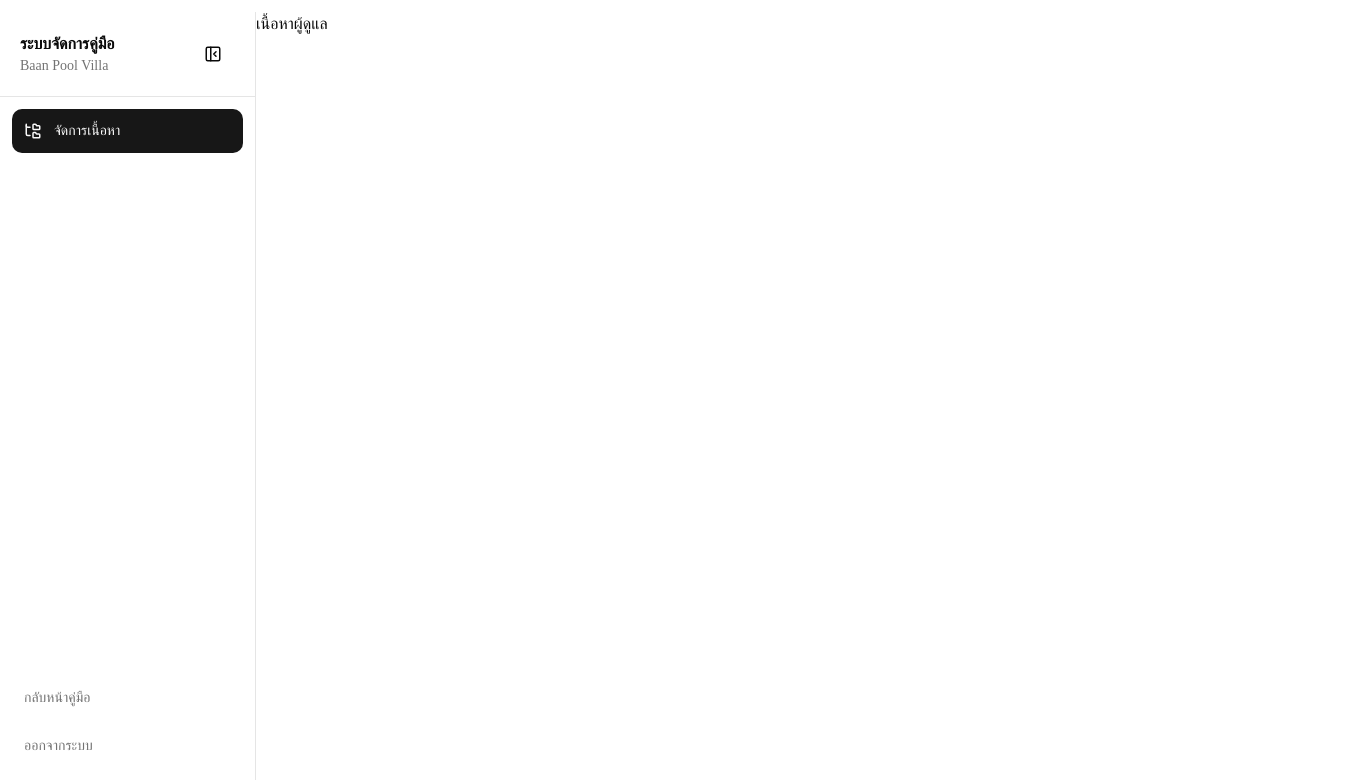
Test: shows a safe error and re-enables logout when sign out returns an error
Click the button "ออกจากระบบ" at [128, 746], box [12, 724, 243, 768]
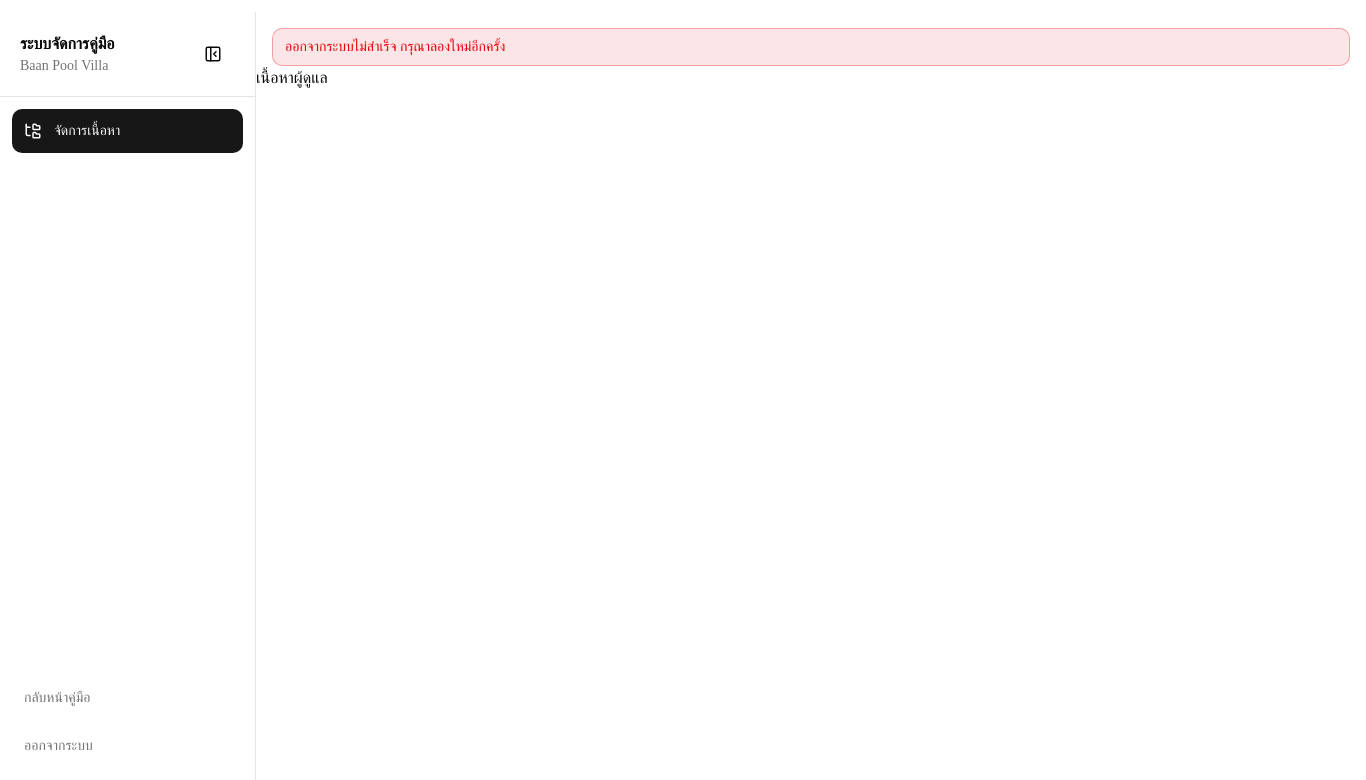
Result: the number of messages is 1 at [272, 28, 1350, 66]
Result: the message reads "ออกจากระบบไม่สำเร็จ กรุณาลองใหม่อีกครั้ง" at [285, 39, 506, 54]
